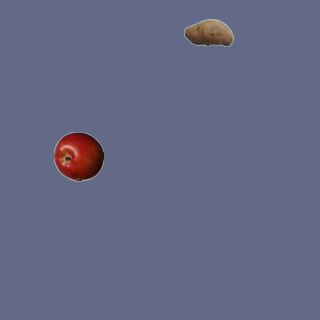Apple Braeburn: (53, 131, 103, 181)
Potato Sweet: (183, 7, 233, 57)
